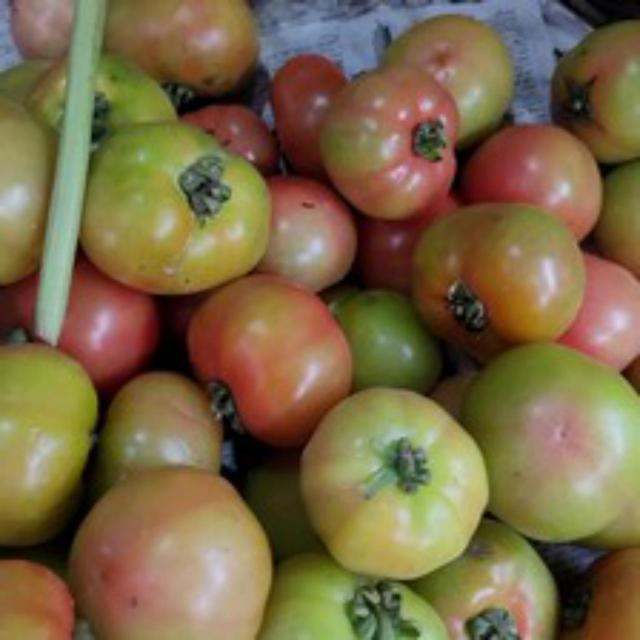tomato: (195, 260, 369, 462)
